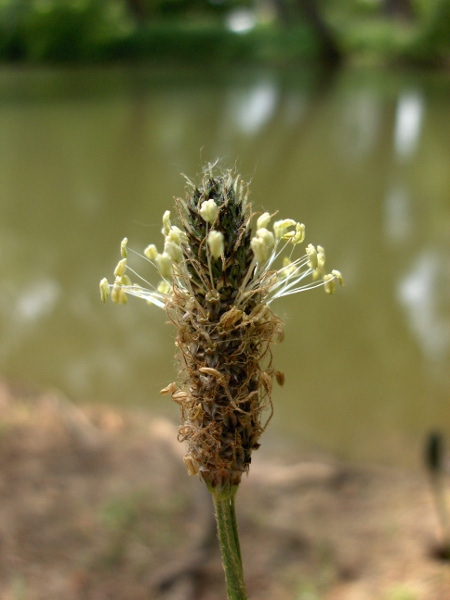buckhorn plantain: (86, 155, 345, 600)
